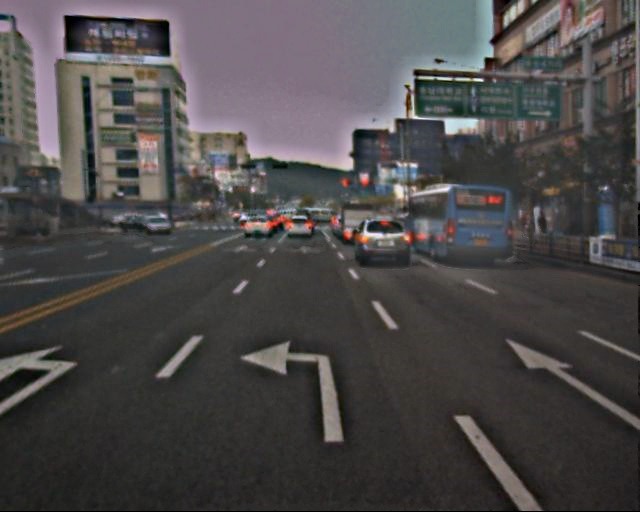person: (536, 212, 551, 248), (518, 215, 533, 236)
